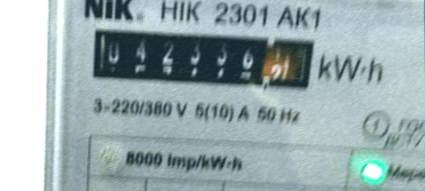0: (106, 37, 120, 66)
2: (158, 38, 177, 66)
3: (185, 38, 202, 67), (214, 39, 229, 67)
4: (132, 38, 149, 65)
6: (239, 44, 255, 71)
screen: (81, 17, 322, 102)
